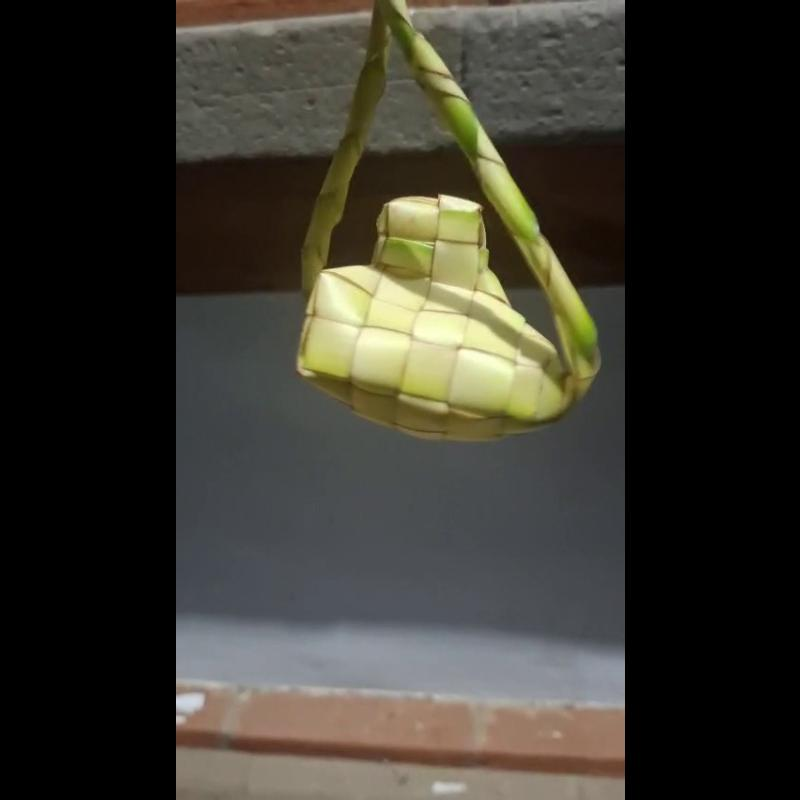Tipat Gong: (292, 0, 610, 444)
